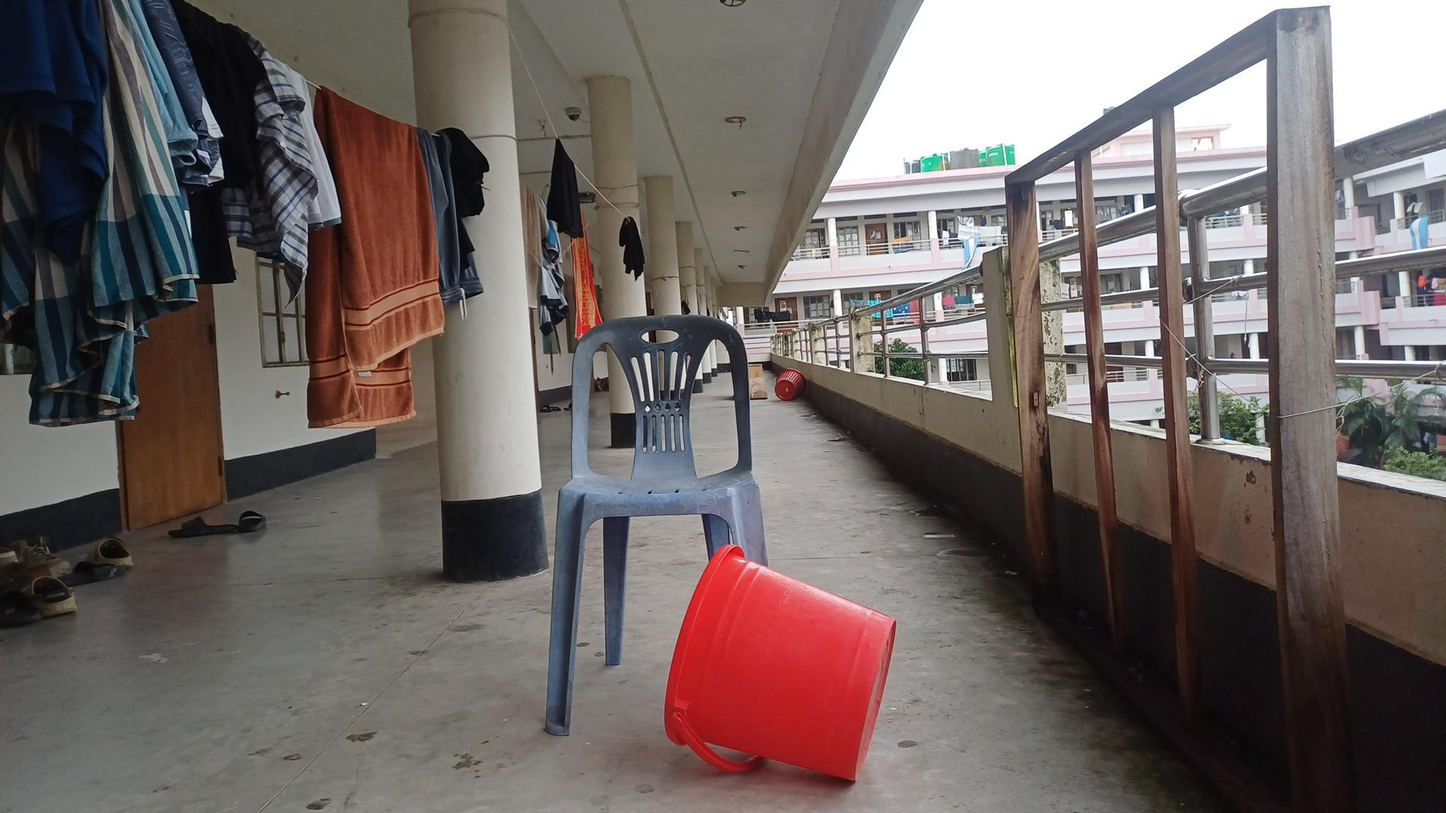Basket: (779, 365, 807, 407)
Bucket: (689, 543, 956, 777)
Footwear: (505, 291, 760, 697), (21, 525, 160, 629)
Towel: (291, 44, 458, 456)
